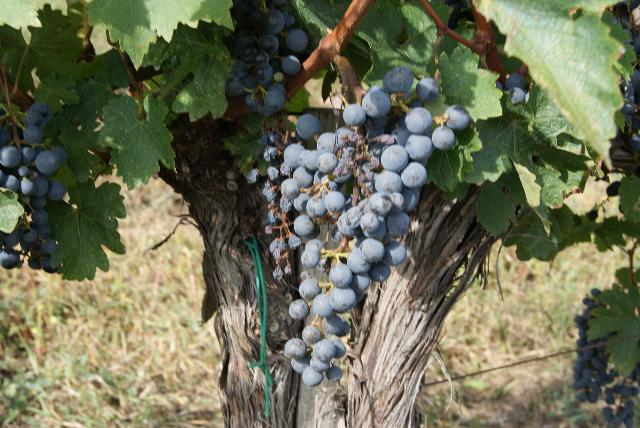grapes: (276, 66, 470, 386)
